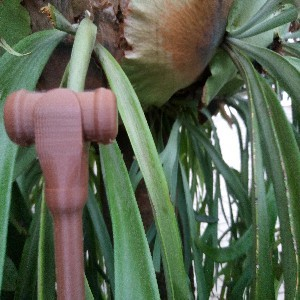palu: (3, 86, 118, 300)
